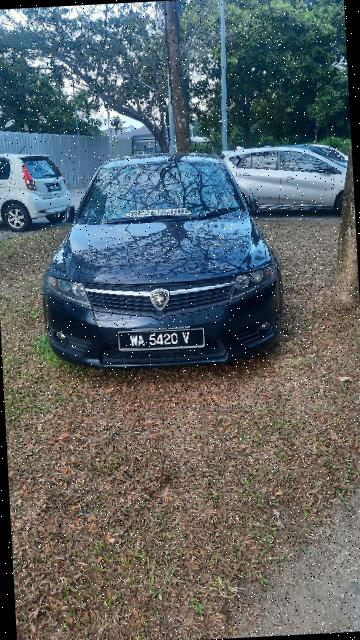License_Plate: (117, 324, 210, 356)
car: (28, 142, 292, 381)
